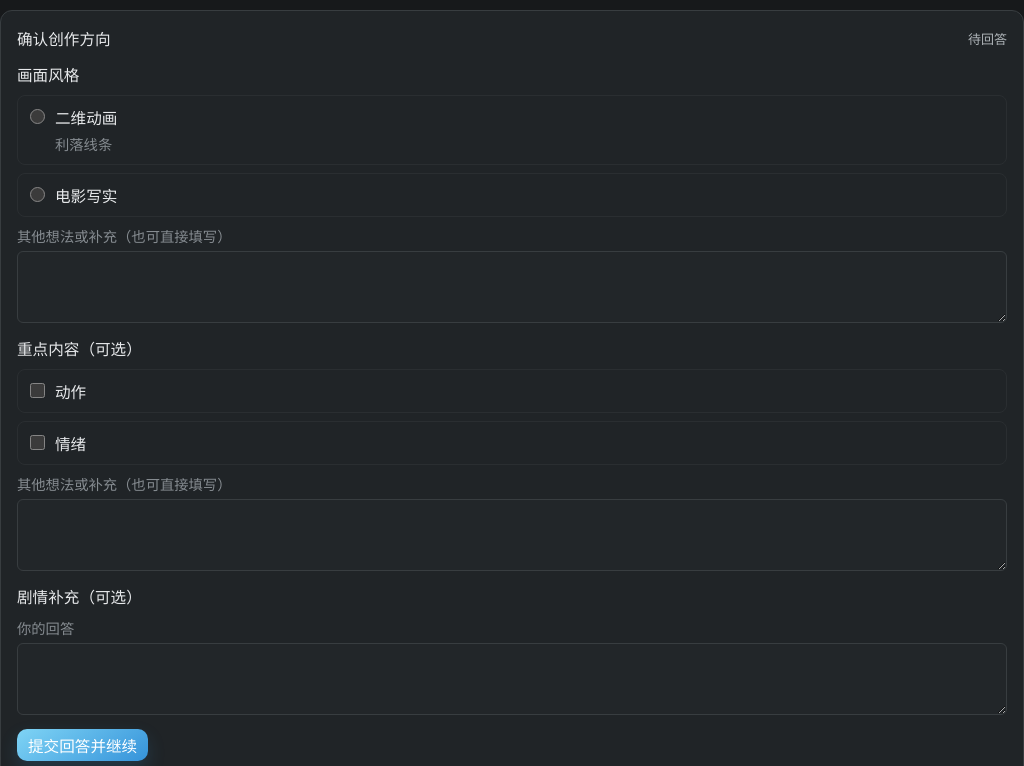
Scenario: has no default choices, validates required answers and submits single/multiple/text answers together
The image size is (1024, 766).
Click the button "提交回答并继续" at (83, 745), box [17, 729, 148, 761]
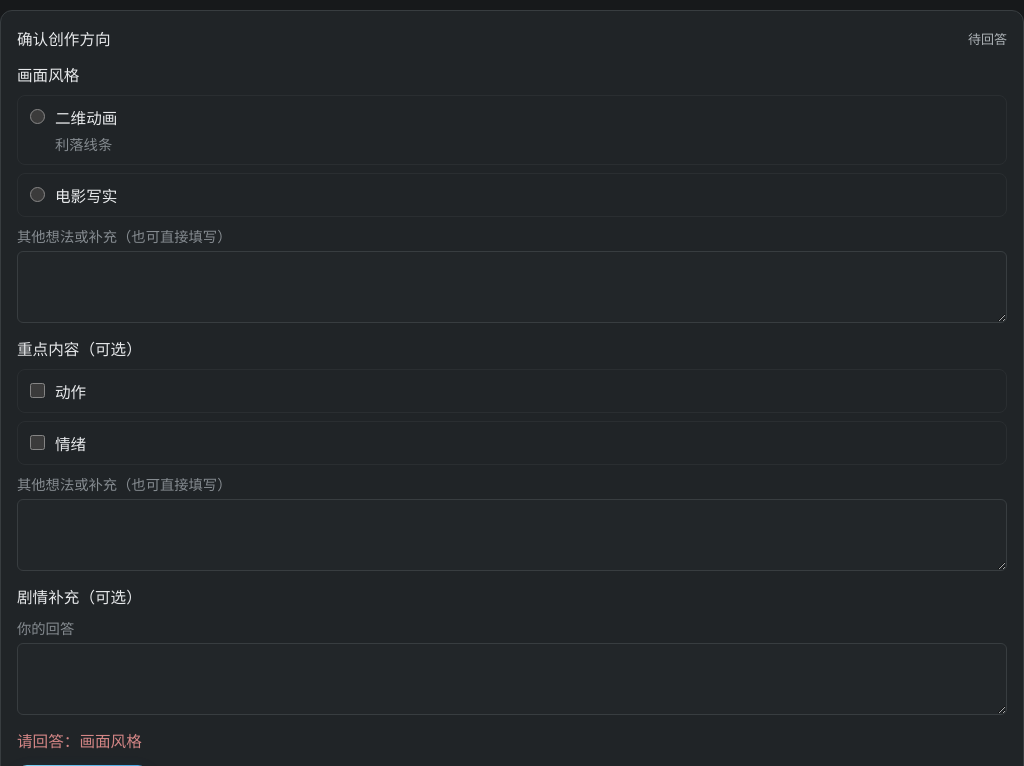
Expected: the message reads "请回答：画面风格", [17, 732, 142, 751]
Click the radio button labelled "二维动画 利落线条" at (38, 116), box [30, 109, 45, 124]
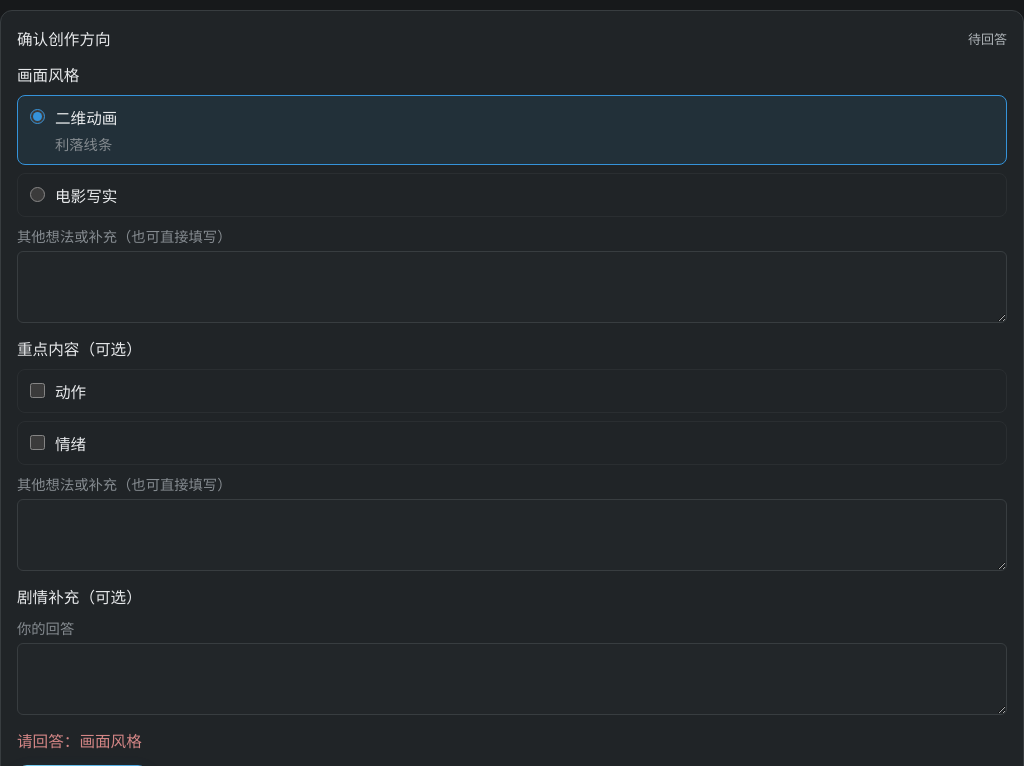
Click the checkbox labelled "动作" at (38, 390), box [30, 383, 45, 398]
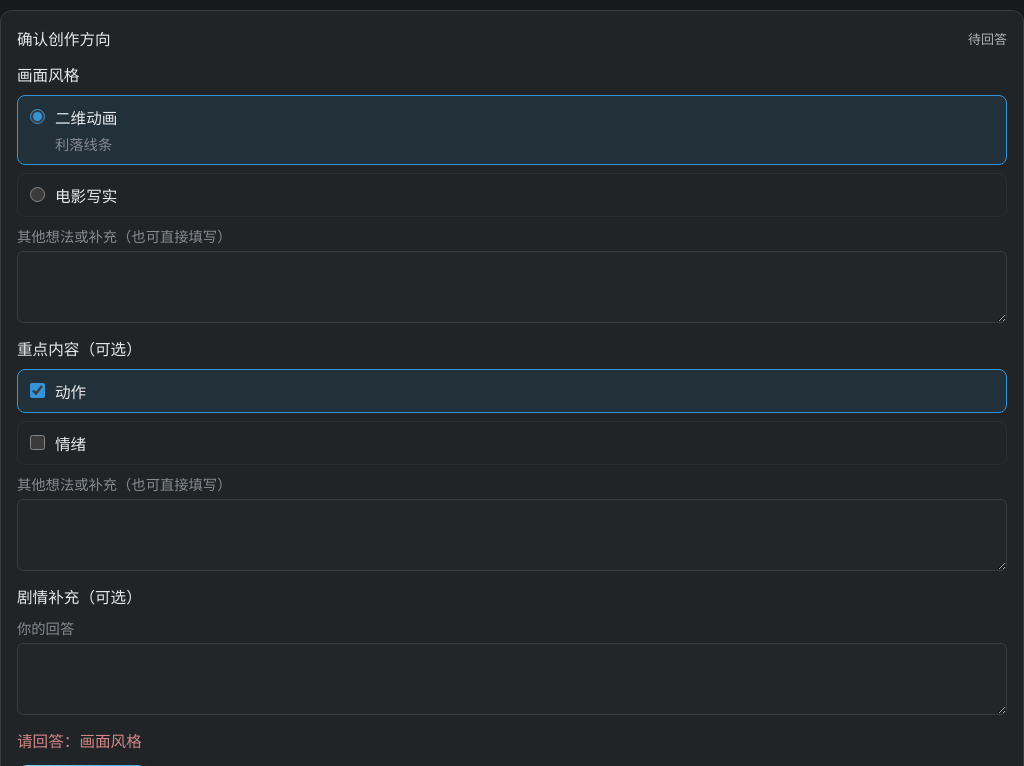
Click the checkbox labelled "情绪" at (38, 442), box [30, 435, 45, 450]
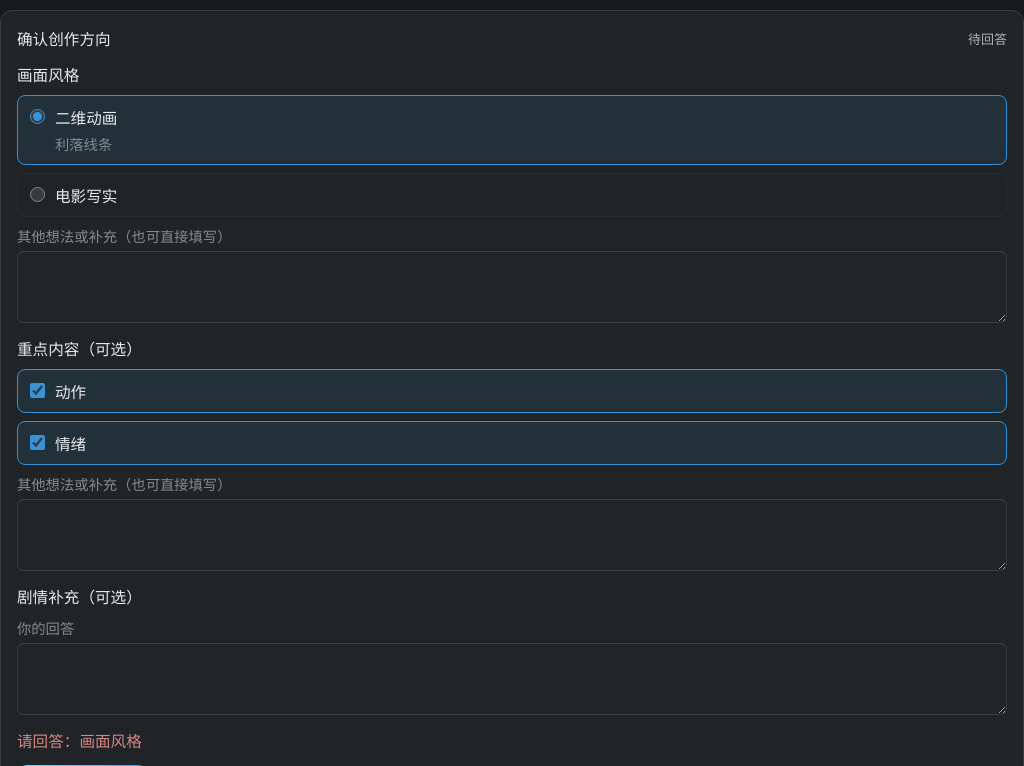
Type "冷灰雨夜" into the text box named "剧情补充：补充回答" at (512, 679), box [17, 643, 1007, 715]
(page scrolled)
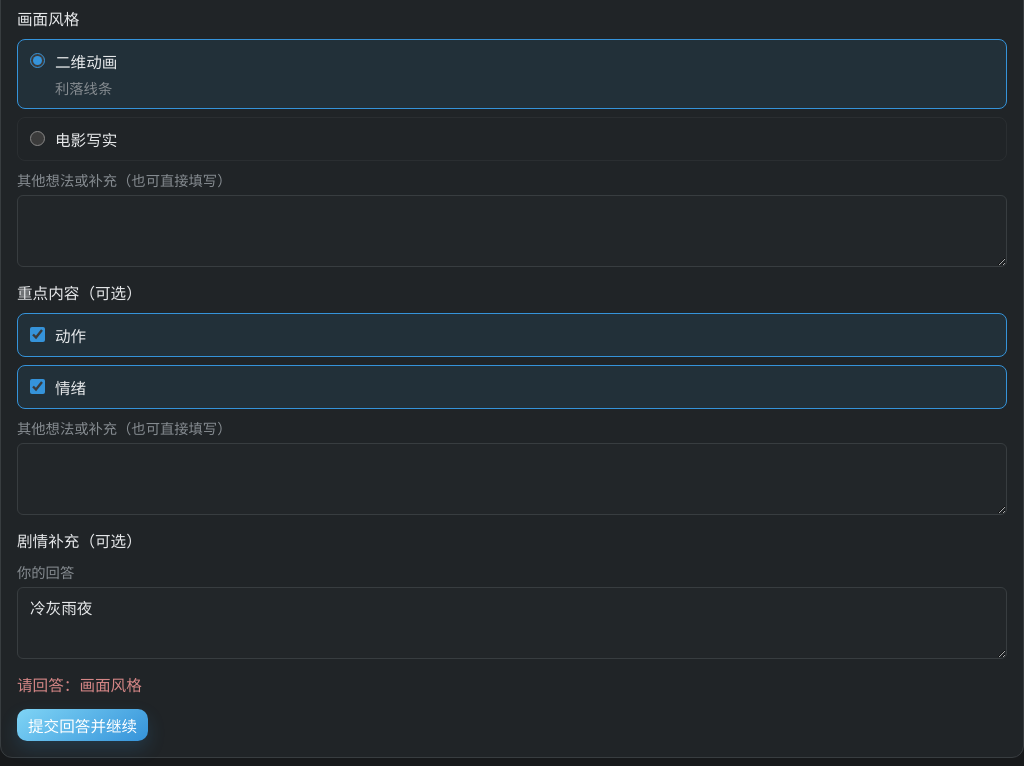
Click the button "提交回答并继续" at (83, 725), box [17, 709, 148, 741]
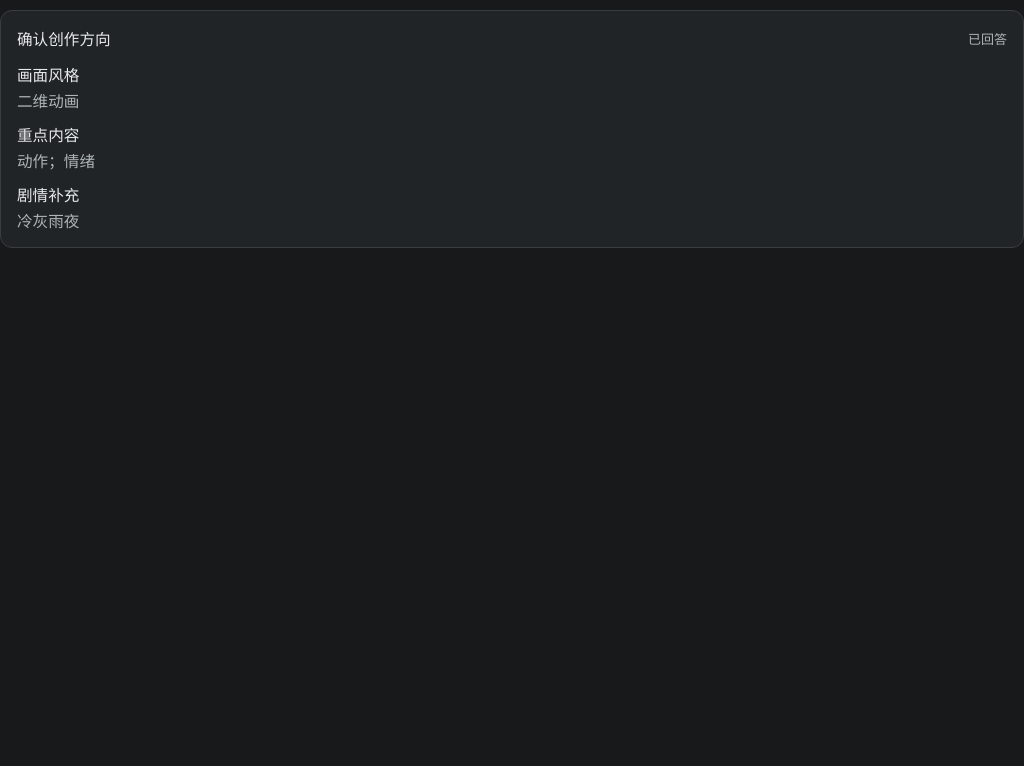
Expected: the text "已回答" is shown, [968, 28, 1007, 48]
Expected: the text "冷灰雨夜" is shown, [17, 212, 79, 231]
Expected: the button "提交回答并继续" is gone
